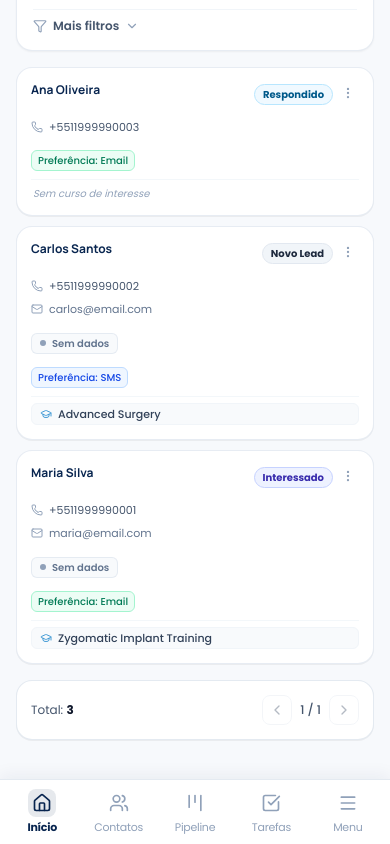
Scenario: EDS HUB — Campaign Delete, Real Lead Picker & Safe Lead Delete Suite › Part 3: Safe Lead Deletion from Contacts & Lead Profile › 12. Contacts list displays "Excluir lead" in contextual action menu
(page scrolled)
Expected: the heading "Maria Silva" is shown, [31,464,94,481]
Click the button with test id "lead-actions-menu-lead-1" at coordinates (348, 476), box [337,465,359,487]
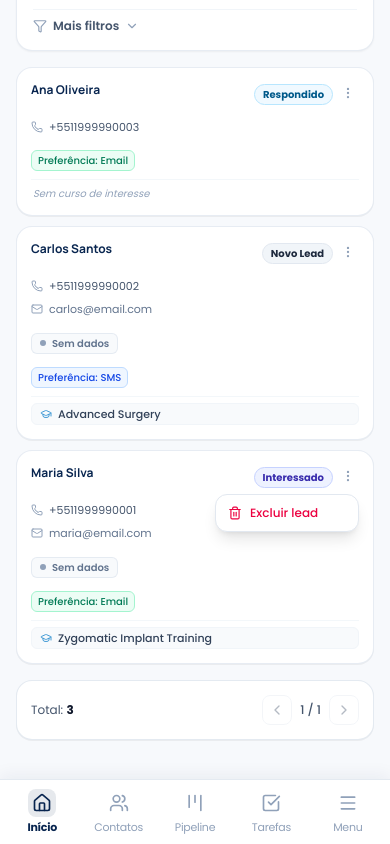
Result: the button with test id "delete-lead-menu-lead-1" reads "Excluir lead" at [216,499,358,527]
